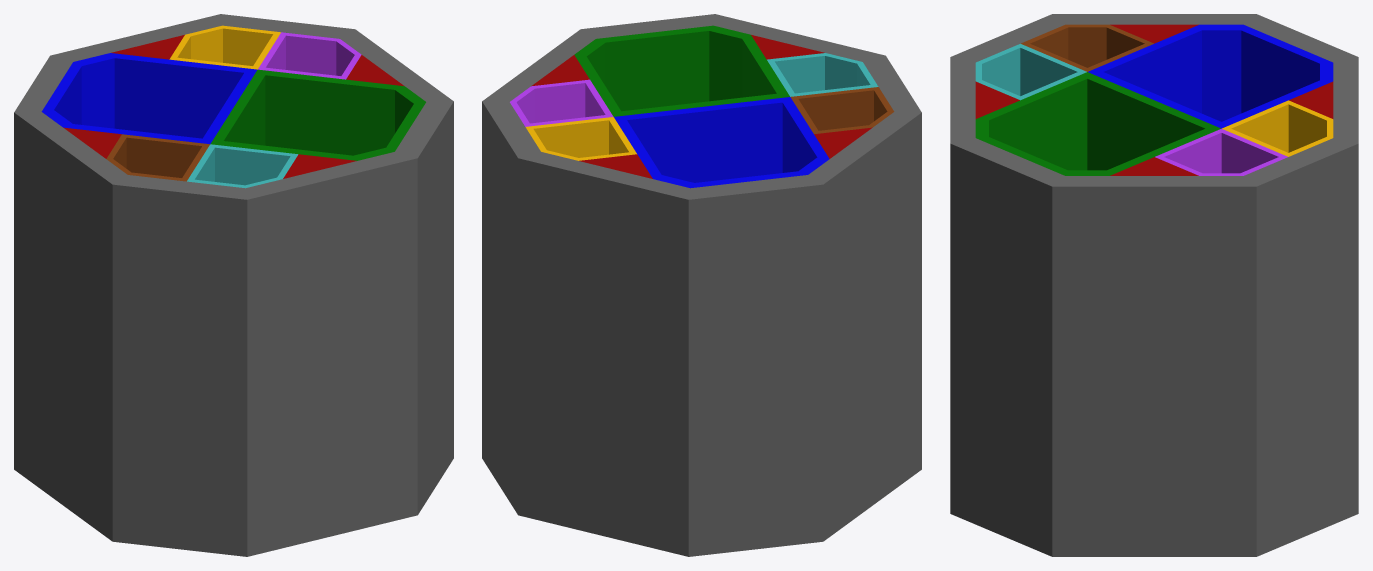
The model's file is pipe_item.obj.
The picture shows the model from 3 angles, left to right: view 1: azimuth 30°, elevation 25°; view 2: azimuth 150°, elevation 25°; view 3: azimuth 270°, elevation 25°; orthographic projection. The views are drawn at different scales.
Size of the model in its own units: 1 by 1 by 1.
